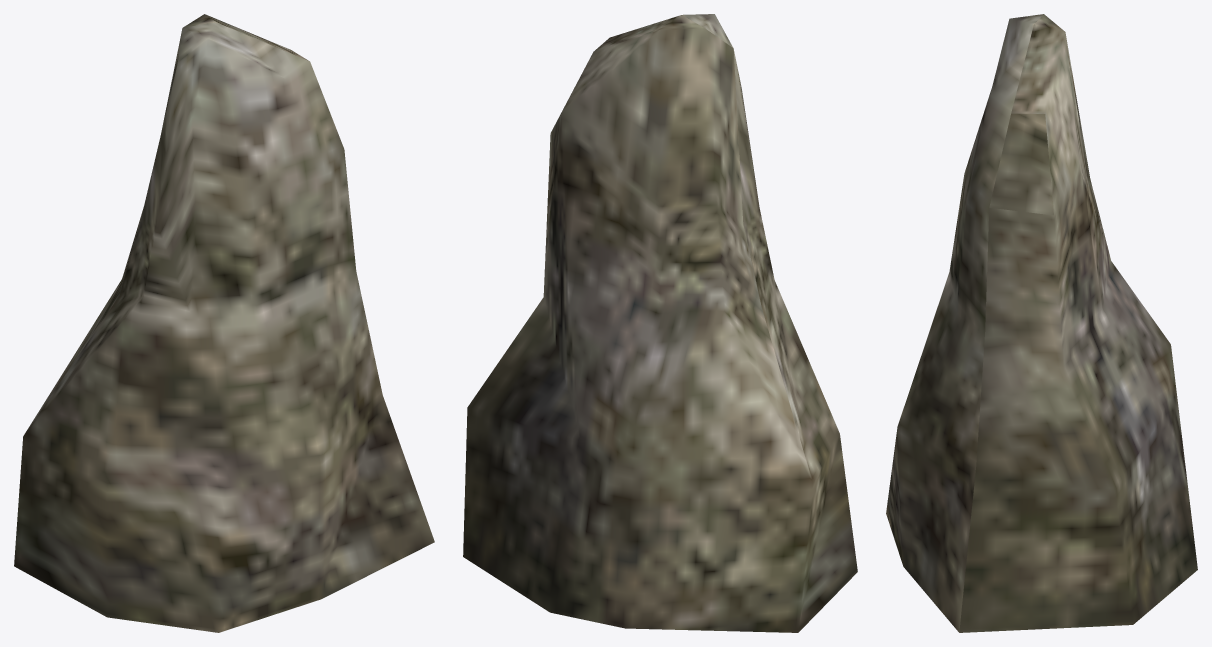
Rendered from general_obj_stone09.glb.
The picture shows the model from 3 angles, left to right: view 1: azimuth 30°, elevation 25°; view 2: azimuth 150°, elevation 25°; view 3: azimuth 270°, elevation 25°; orthographic projection. The views are drawn at different scales.
Parts seen in each view (by area): view 1: Sphere01; view 2: Sphere01; view 3: Sphere01.
Boxes of the visible parts, box(x1,y1,x2,y2) form: Sphere01: box(14, 14, 434, 632); Sphere01: box(463, 14, 857, 632); Sphere01: box(886, 14, 1197, 632).
Bounding box in the file's own units: 1.32 × 1.98 × 1.07.
Materials: 1 (1 with a texture image).
